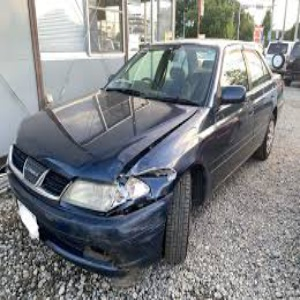bumper: (71, 197, 165, 278)
